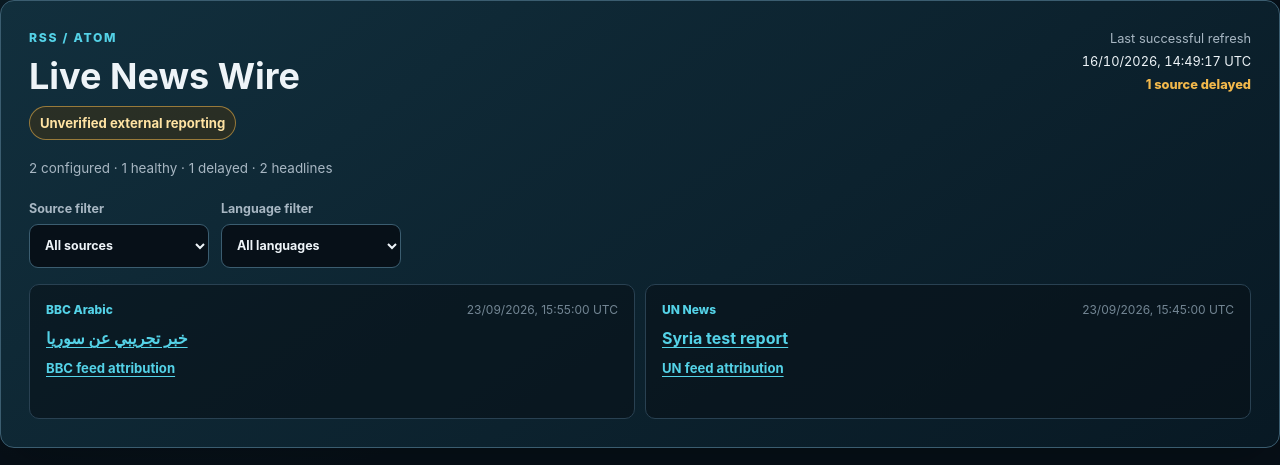
Test case: NewsWire › does not blame another source's delay for a healthy source's language mismatch
The image size is (1280, 465).
Select "BBC Arabic" in the dropdown labelled "Source filter": (119,246) [29,224,209,268]
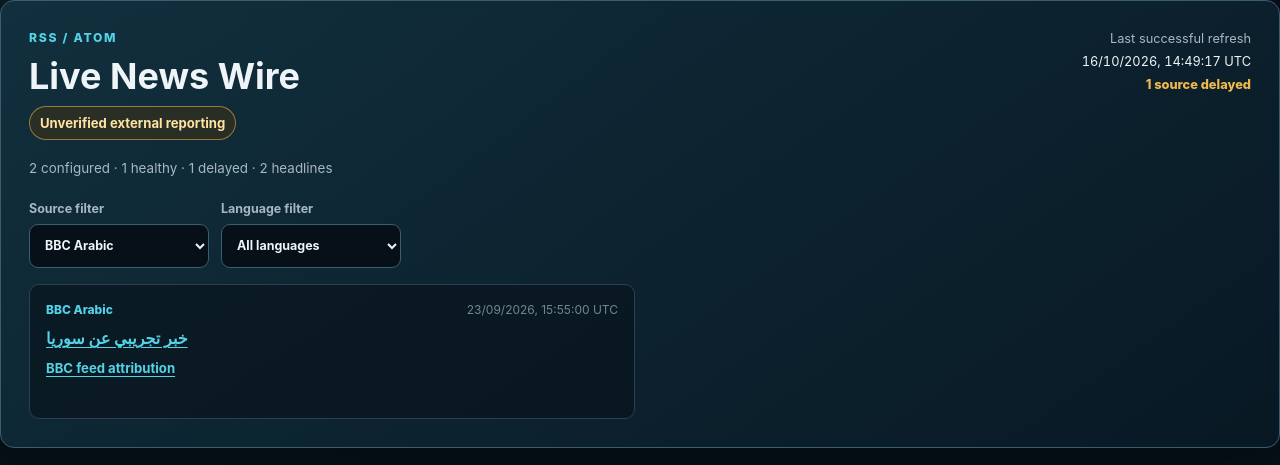
Select "English" in the dropdown labelled "Language filter": (311,246) [221,224,401,268]
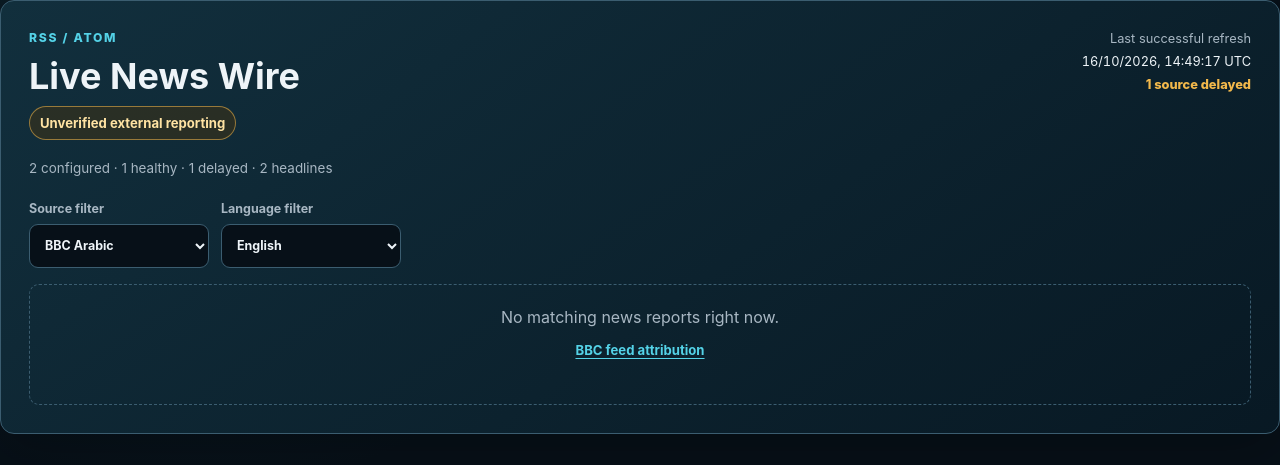
Result: the text "No matching news reports right now." is shown at [501,307,779,327]
